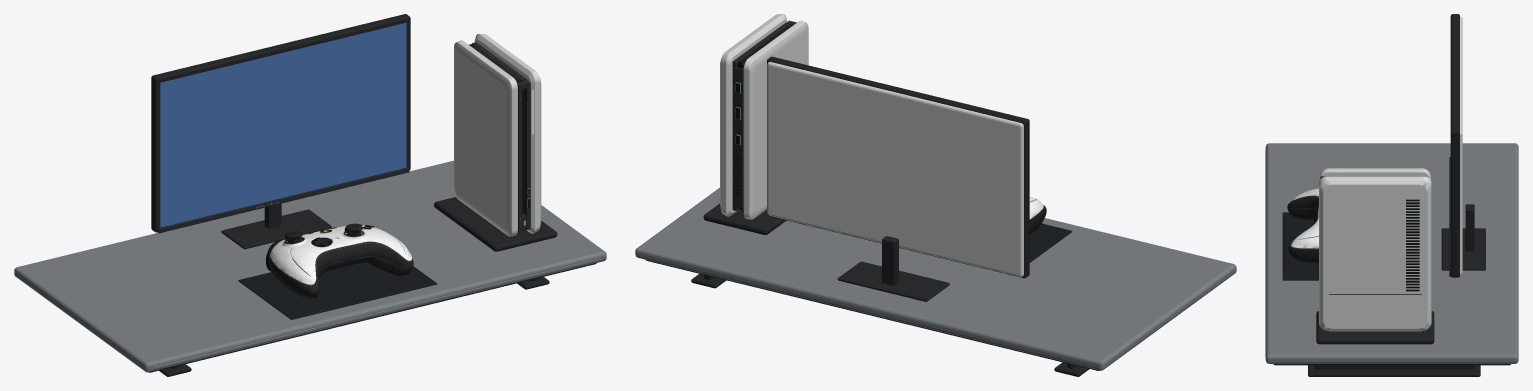
The model's file is console-setup.glb.
3 renders of one model, left to right at view 1: azimuth 30°, elevation 25°; view 2: azimuth 150°, elevation 25°; view 3: azimuth 270°, elevation 25°, orthographic. The views are drawn at different scales.
Parts seen in each view (by area): view 1: Stand, Monitor_Screen, Console_Batch_Console_Shell, Controller_Body, Stand_Controller_Pad, Monitor_Frame, Console_Vertical_Base, Console_Batch_Console_Core, Monitor_Foot, Monitor_Chin, Stand_Underframe, Stand_Front_Inlay; view 2: Stand, Monitor_Rear, Console_Batch_Console_Shell, Monitor_Frame, Console_Batch_Console_Core, Monitor_Foot, Console_Vertical_Base, Stand_Controller_Pad, Monitor_Neck, Stand_Underframe; view 3: Stand, Console_Batch_Console_Shell, Monitor_Frame, Console_Vertical_Base, Controller_Body, Stand_Controller_Pad, Stand_Foot.001, Monitor_Foot, Console_Batch_Recess_Shadow, Stand_Support.001, Monitor_Rear, Monitor_Neck (+2 smaller).
Part boxes in pixels (left/top/right/bottom): Stand: left=14, top=160, right=606, bottom=372; Monitor_Screen: left=160, top=22, right=406, bottom=227; Console_Batch_Console_Shell: left=454, top=34, right=541, bottom=236; Controller_Body: left=266, top=225, right=413, bottom=299; Stand_Controller_Pad: left=238, top=263, right=437, bottom=319; Monitor_Frame: left=151, top=14, right=410, bottom=232; Console_Vertical_Base: left=434, top=197, right=557, bottom=251; Console_Batch_Console_Core: left=471, top=42, right=530, bottom=231; Monitor_Foot: left=221, top=209, right=331, bottom=249; Monitor_Chin: left=158, top=167, right=409, bottom=233; Stand_Underframe: left=149, top=263, right=596, bottom=372; Stand_Front_Inlay: left=154, top=258, right=600, bottom=367; Stand: left=635, top=188, right=1236, bottom=370; Monitor_Rear: left=767, top=62, right=1023, bottom=276; Console_Batch_Console_Shell: left=720, top=14, right=808, bottom=219; Monitor_Frame: left=767, top=56, right=1029, bottom=278; Console_Batch_Console_Core: left=732, top=20, right=796, bottom=212; Monitor_Foot: left=837, top=261, right=949, bottom=301; Console_Vertical_Base: left=703, top=203, right=786, bottom=234; Stand_Controller_Pad: left=1029, top=223, right=1072, bottom=262; Monitor_Neck: left=882, top=236, right=898, bottom=285; Stand_Underframe: left=645, top=259, right=1099, bottom=370; Stand: left=1265, top=143, right=1518, bottom=363; Console_Batch_Console_Shell: left=1319, top=168, right=1431, bottom=331; Monitor_Frame: left=1450, top=14, right=1459, bottom=277; Console_Vertical_Base: left=1316, top=311, right=1434, bottom=344; Controller_Body: left=1287, top=188, right=1318, bottom=263; Stand_Controller_Pad: left=1282, top=212, right=1318, bottom=280; Stand_Foot.001: left=1308, top=365, right=1480, bottom=376; Monitor_Foot: left=1441, top=228, right=1485, bottom=270; Console_Batch_Recess_Shadow: left=1329, top=199, right=1421, bottom=294; Stand_Support.001: left=1314, top=365, right=1474, bottom=369; Monitor_Rear: left=1460, top=16, right=1462, bottom=274; Monitor_Neck: left=1465, top=204, right=1474, bottom=251.
Size of the model in its own units: 12 by 5.67 by 6.01.
11 materials, 1 textured.
